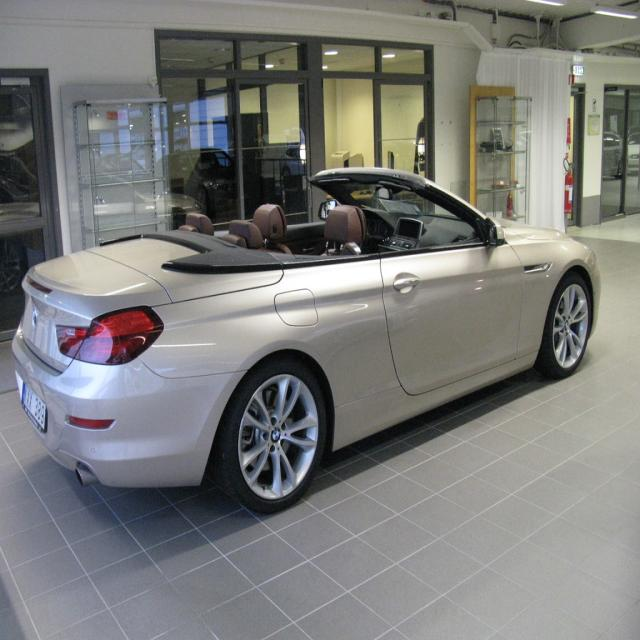car: (4, 176, 595, 515)
